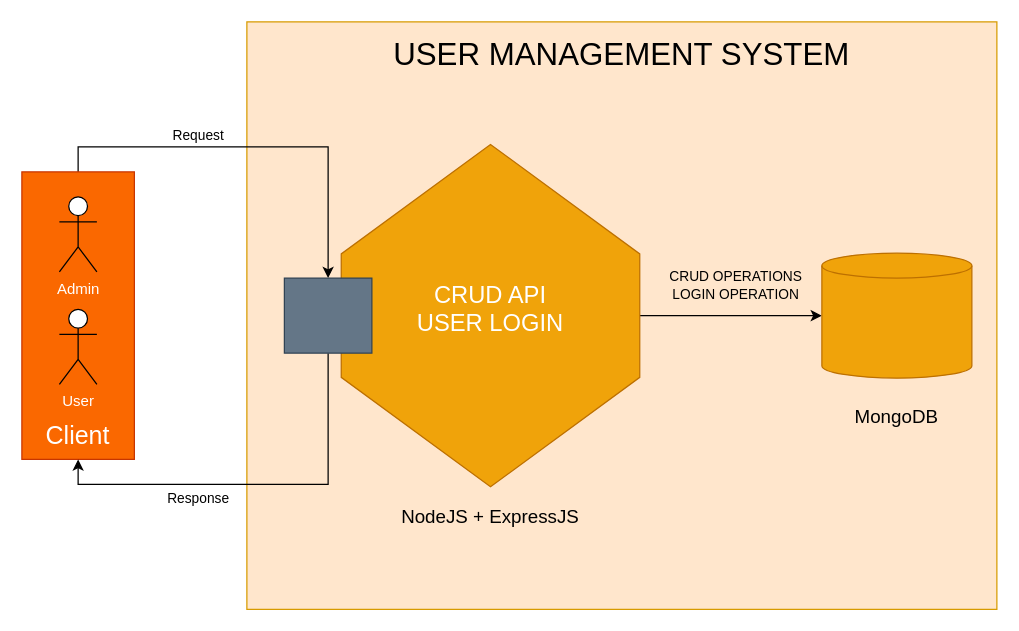
Some shapes in this 1019 by 631 pixel diagram are drawn without their labels. The box of each missing label's shape, as (x1, y1, x2, y2) in pixels:
REST API: (283, 277, 372, 353)
User Database: (821, 252, 972, 378)
